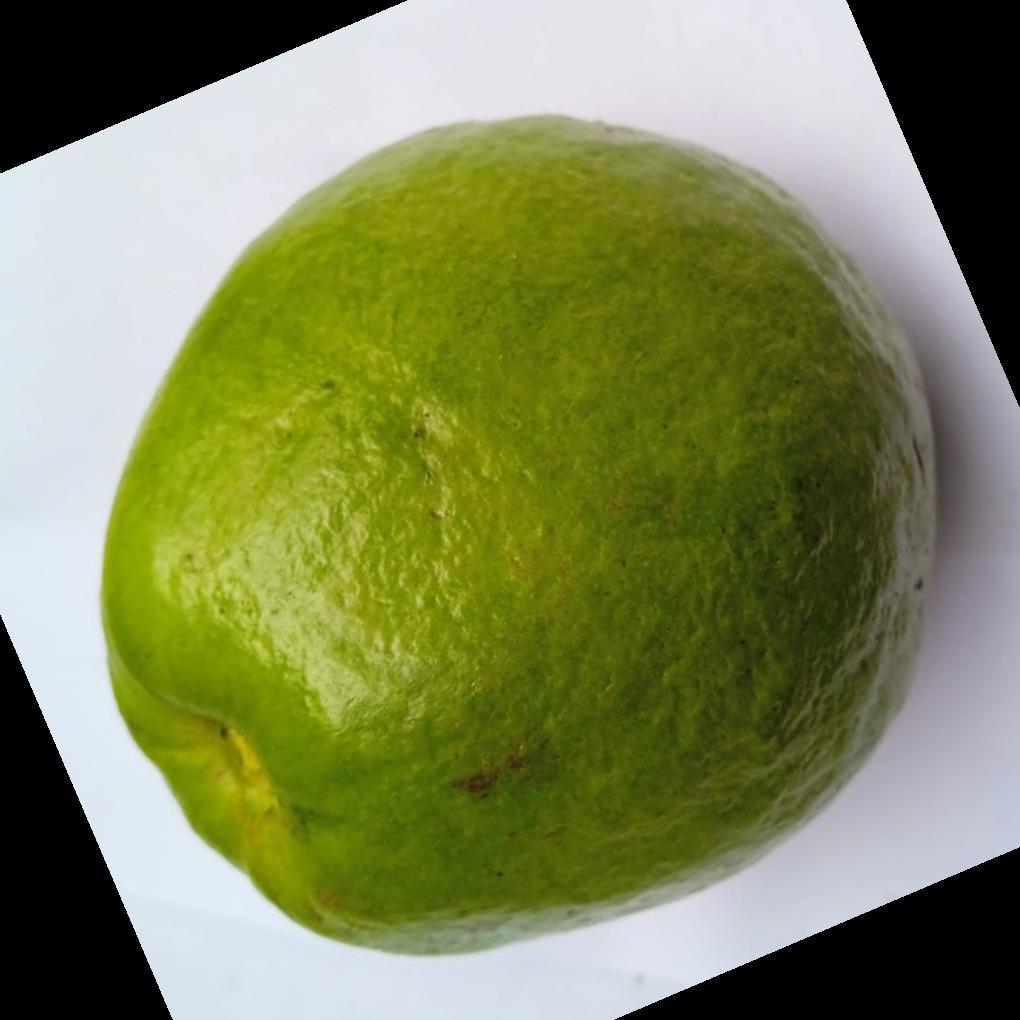FreshGuava: (95, 114, 938, 963)
